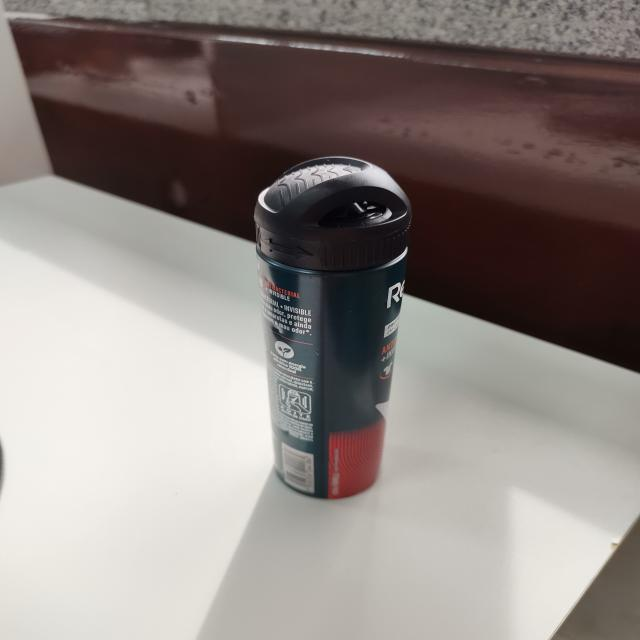Desodorante Azul: (254, 155, 429, 499)
